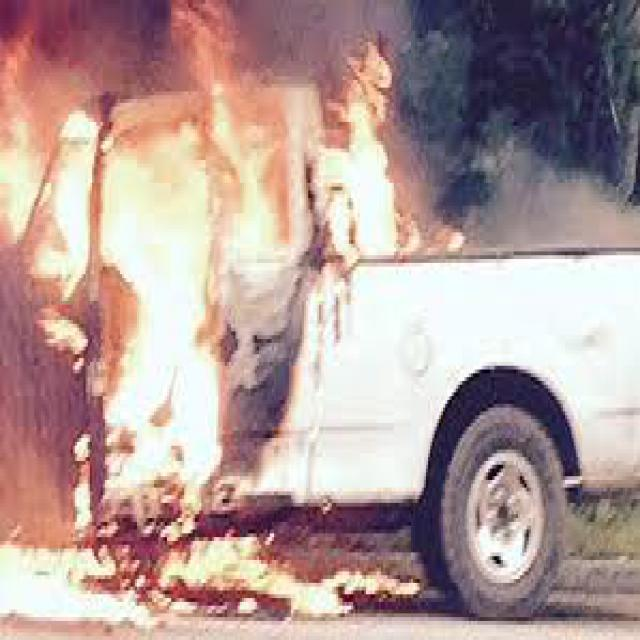Fire: (5, 10, 477, 628)
Smoke: (473, 145, 640, 295)
